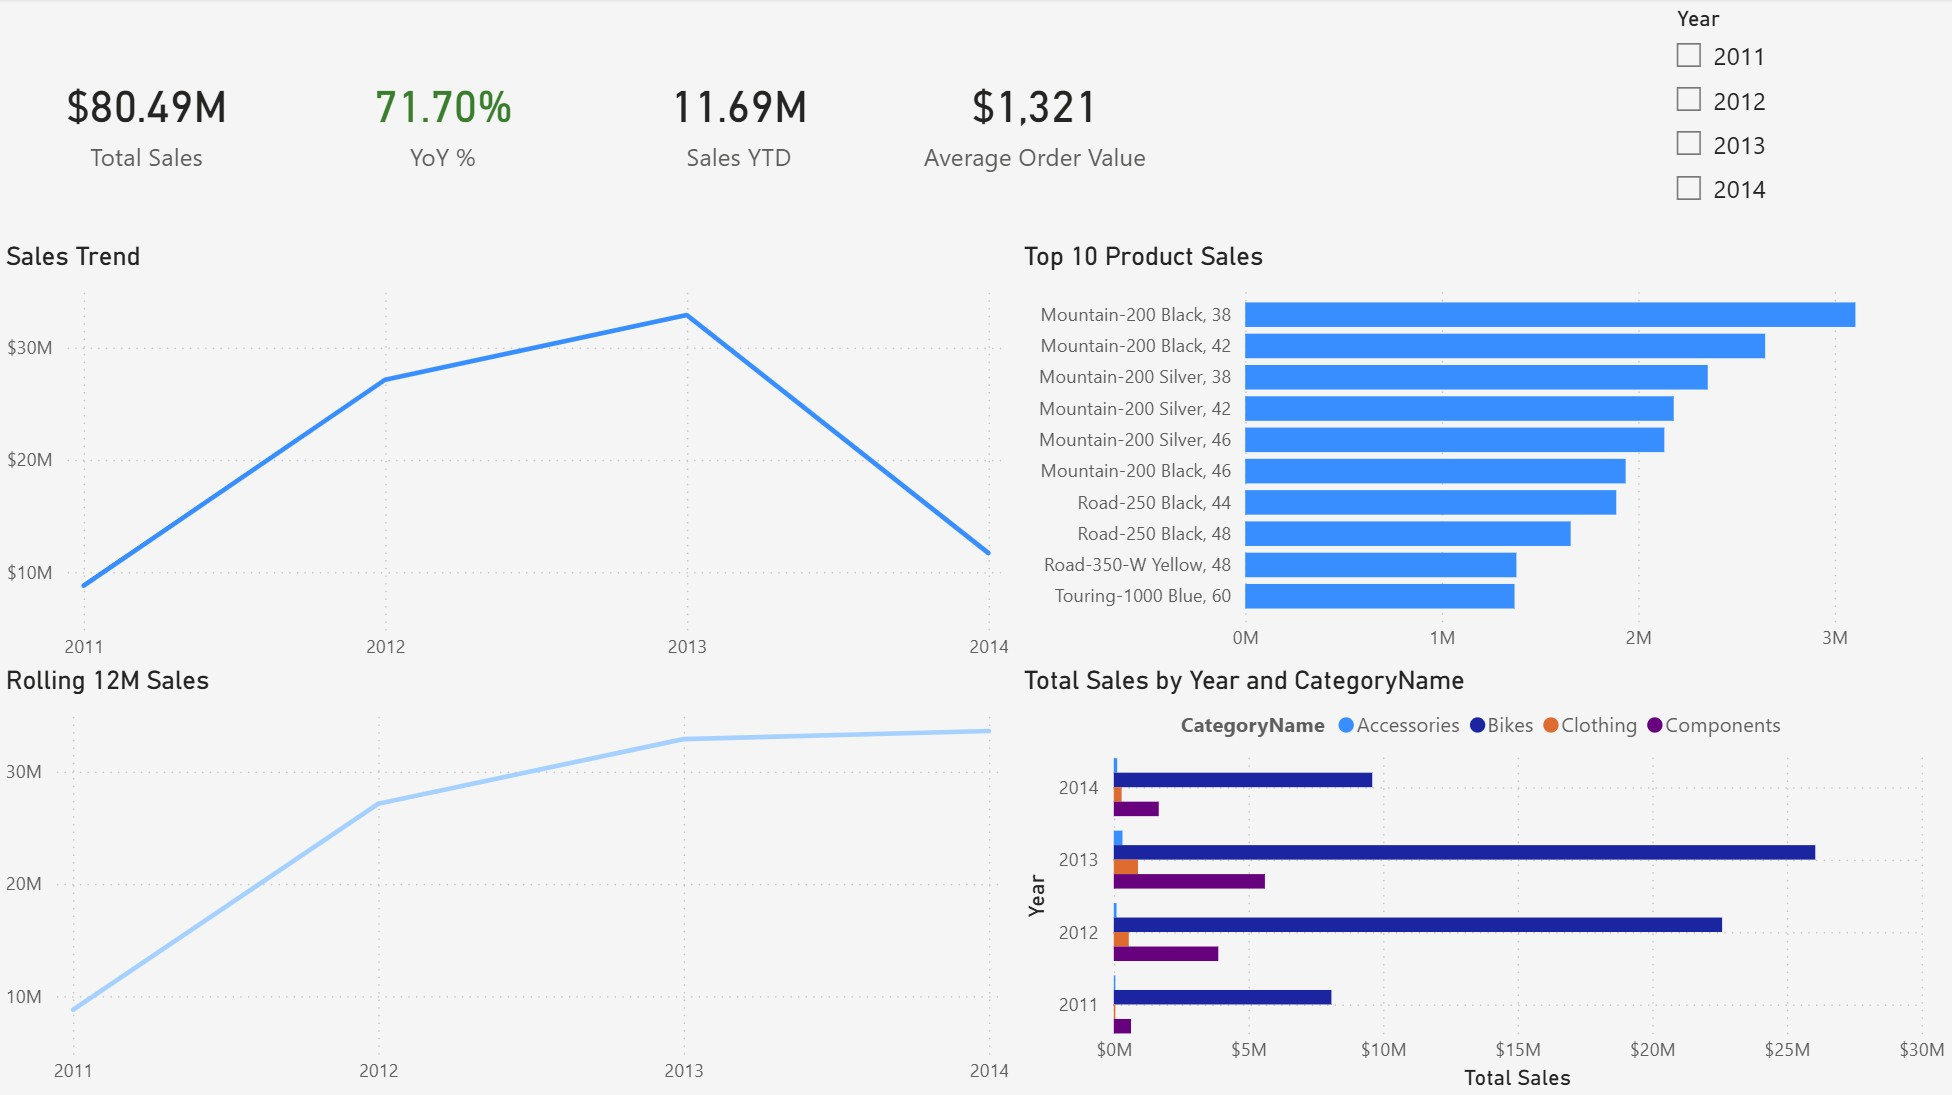

This screenshot's page, from the dashboard's own definition file:
{"tool":"powerbi","page":{"name":"Executive Overview","canvas":[1280,720],"ordinal":0},"visuals":[{"type":"card","fields":{"Values":["_Measures.Total Sales"]},"box":[0,0,194.4,159],"z":0},{"type":"card","fields":{"Values":["_Measures.YoY %"]},"box":[194.4,0,193.7,159],"z":1000},{"type":"card","fields":{"Values":["_Measures.Sales YTD"]},"box":[388.1,0,193.7,159],"z":2000},{"type":"card","fields":{"Values":["_Measures.Average Order Value"]},"box":[581.8,0,193.7,159],"z":3000},{"type":"lineChart","title":"Sales Trend","fields":{"Y":["_Measures.Total Sales"],"Category":["dim_date.Year Hierarchy.Year","dim_date.Year Hierarchy.Quarter","dim_date.Year Hierarchy.MonthName","dim_date.Year Hierarchy.Date"]},"box":[0,159,666.2,283.4],"z":4000},{"type":"lineChart","title":"Rolling 12M Sales","fields":{"Category":["dim_date.Year Hierarchy.Year","dim_date.Year Hierarchy.Quarter","dim_date.Year Hierarchy.MonthName","dim_date.Year Hierarchy.Date"],"Y":["_Measures.Rolling 12M Sales"]},"box":[0,436.6,666.5,283.4],"z":5000},{"type":"clusteredBarChart","fields":{"Category":["dim_date.Year Hierarchy.Year"],"Series":["dim_products.CategoryName"],"Y":["_Measures.Total Sales"]},"box":[666.5,436.6,613.5,283.4],"z":6000},{"type":"slicer","fields":{"Values":["dim_date.Year Hierarchy.Year"]},"box":[1085.7,0,194.3,153.2],"z":7000},{"type":"clusteredBarChart","title":"Top 10 Product Sales","fields":{"Y":["_Measures.Top 10 Product Sales"],"Category":["dim_products.ProductName"]},"box":[666,159,614,278],"z":7001}]}

Visuals, with their boxes in screenshot pixels (x1, y1, x2, y2), scaled from the page's 1280x720 canvas onto the 1952x1095 screenshot:
card - _Measures.Total Sales: 0 0 296 242
card - _Measures.YoY %: 296 0 592 242
card - _Measures.Sales YTD: 592 0 887 242
card - _Measures.Average Order Value: 887 0 1183 242
"Sales Trend" lineChart: 0 242 1016 673
"Rolling 12M Sales" lineChart: 0 664 1016 1094
clusteredBarChart - dim_date.Year Hierarchy.Year x dim_products.CategoryName: 1016 664 1951 1094
slicer - dim_date.Year Hierarchy.Year: 1656 0 1951 233
"Top 10 Product Sales" clusteredBarChart: 1016 242 1951 665
